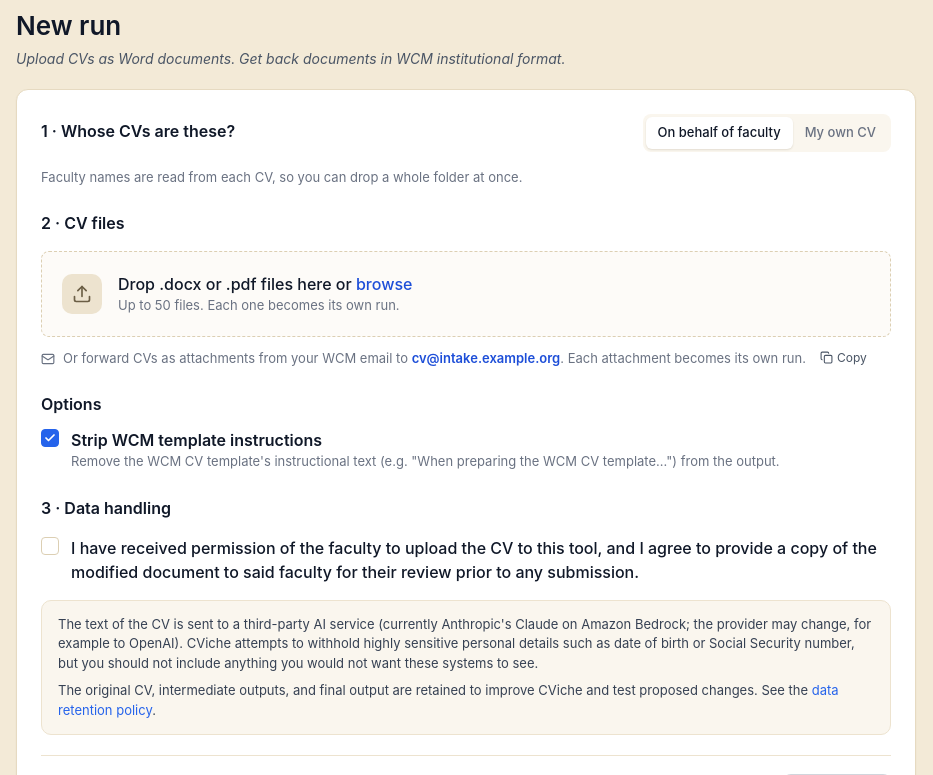
UploadPage intake address line (#1298) › sits under the drop zone in the batch and single layouts while intake is on
Expected: the text "Each attachment becomes its own run" is shown, left=560, top=350, right=806, bottom=366
Click the radio button with aria-label "I am the faculty member whose CV this is".
click(840, 132)  # box left=805, top=124, right=876, bottom=140
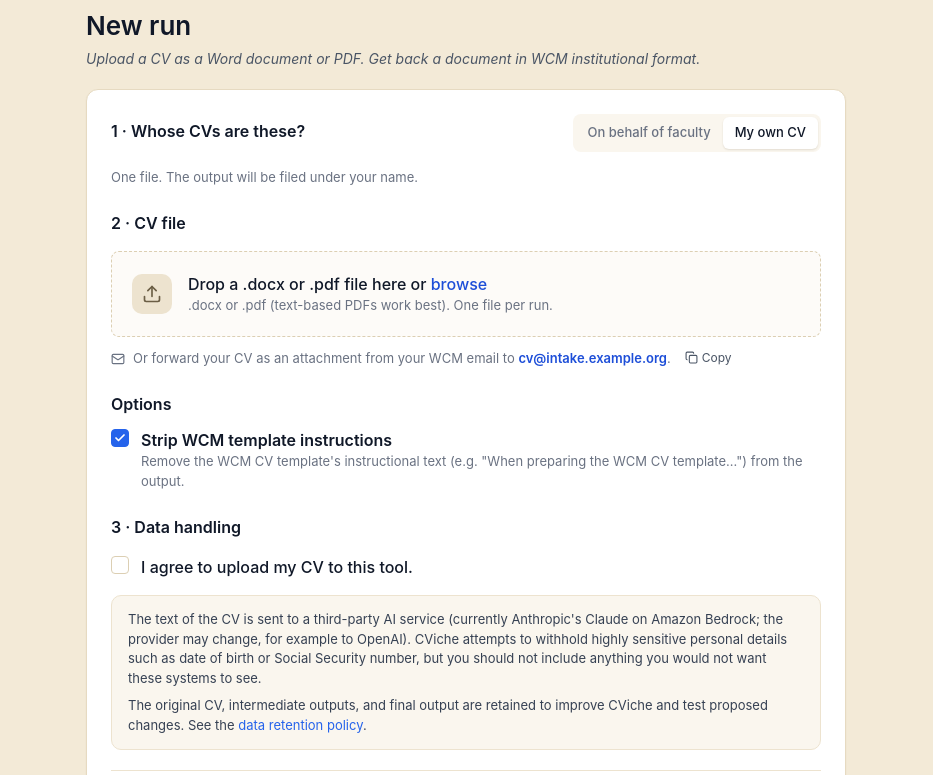
Expected: the link "cv@intake.example.org" is shown, left=518, top=350, right=667, bottom=366
Expected: the text "Or forward your CV as an attachment" is shown, left=133, top=350, right=515, bottom=366
